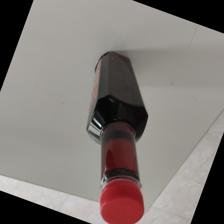Namngu: (84, 51, 151, 224)
